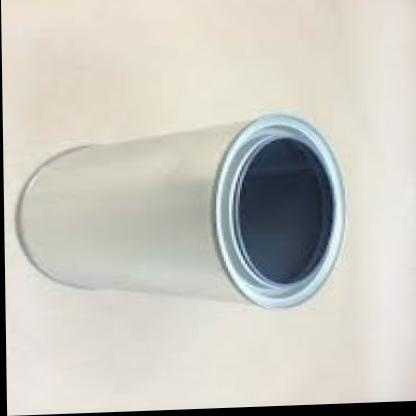trash: (16, 113, 344, 306)
